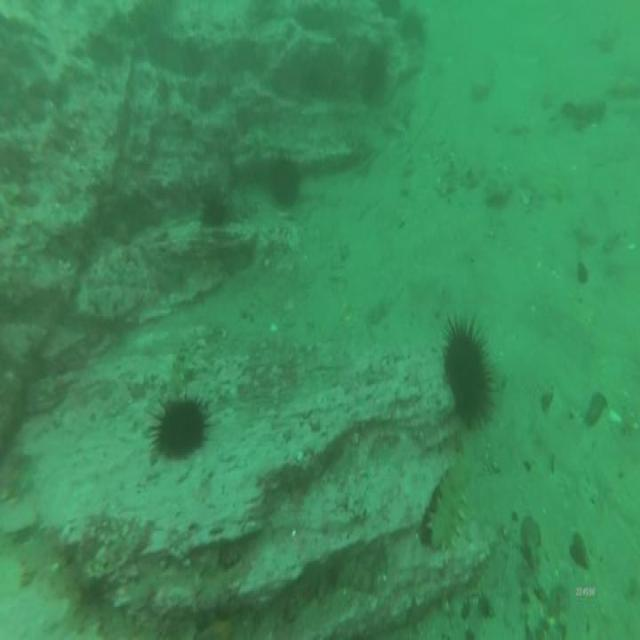echinus: (439, 314, 496, 433), (144, 393, 211, 463), (267, 148, 301, 216), (360, 46, 389, 106), (198, 193, 228, 234), (377, 0, 404, 24)
holothurian: (424, 458, 469, 558)
